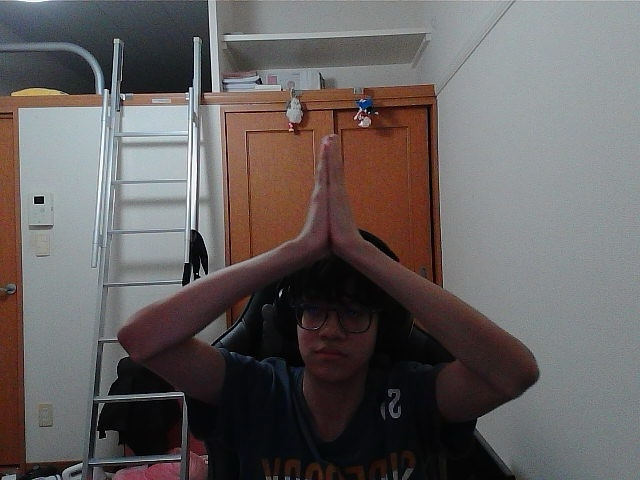pray: (324, 148, 347, 240)
